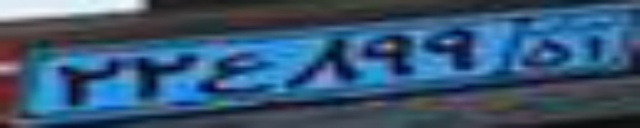1: (579, 34, 613, 62)
2: (128, 53, 195, 101), (58, 56, 118, 106)
5: (523, 36, 571, 68)
8: (286, 39, 361, 86)
9: (424, 29, 477, 72), (362, 35, 415, 77)
ain: (199, 51, 272, 95)
